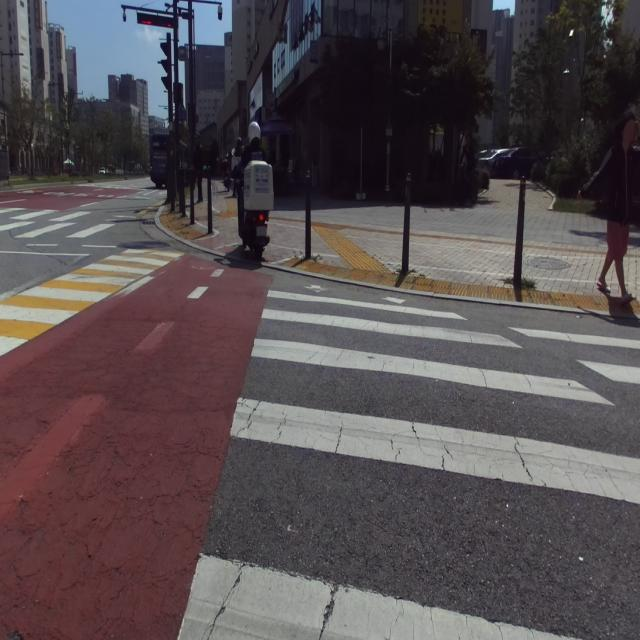횡단보도: (177, 284, 640, 640), (0, 203, 124, 245)
